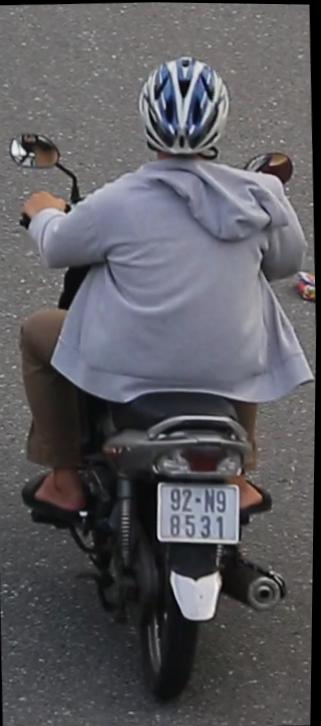LP: (153, 478, 246, 553)
helmet: (134, 49, 237, 176)
